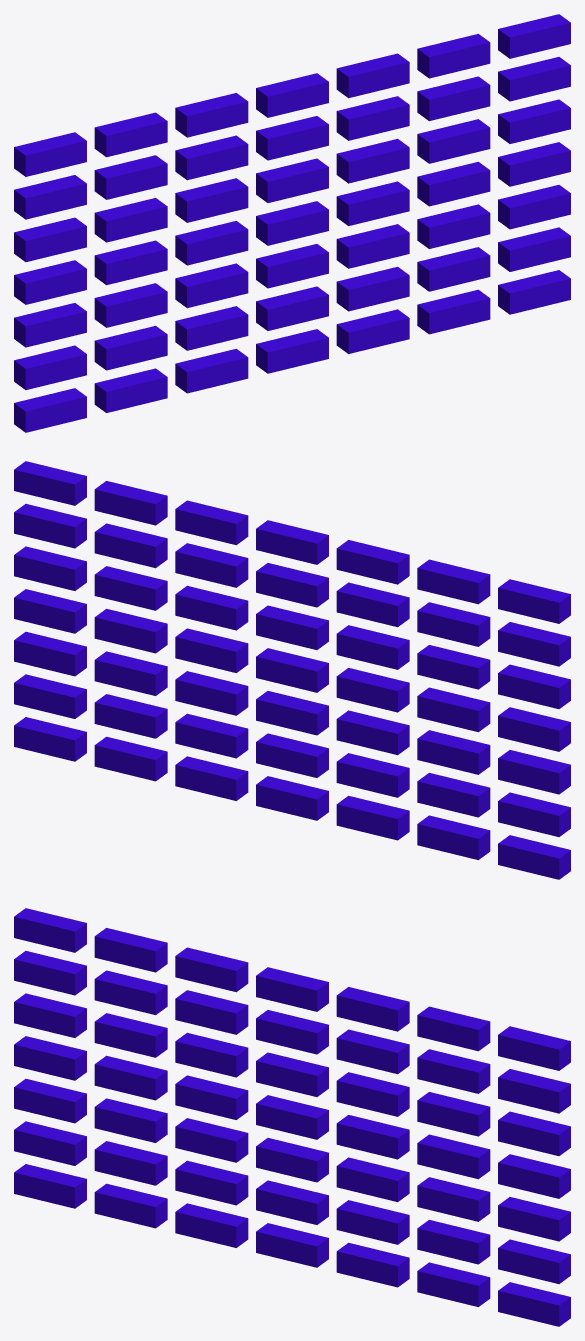
The model's file is Escenario_bloques.glb.
3 renders of one model, top to bottom at view 1: azimuth 30°, elevation 25°; view 2: azimuth 150°, elevation 25°; view 3: azimuth 330°, elevation 25°, orthographic.
Parts seen in each view (by area): view 1: -col.008, -col.017, -col.033, -col.042, -col.010, -col.012, -col.015, -col.019, -col.031, -col.035, -col.038, -col.040 (+37 smaller); view 2: -col.008, -col.017, -col.033, -col.042, -col.010, -col.012, -col.015, -col.019, -col.031, -col.035, -col.038, -col.040 (+37 smaller); view 3: -col.014, -col.019, -col.031, -col.036, -col.010, -col.012, -col.017, -col.021, -col.029, -col.033, -col.038, -col.040 (+37 smaller).
Part boxes in pixels (x1,y1,x2,y2): -col.008: (94,112,167,157); -col.017: (175,178,248,222); -col.033: (336,224,409,268); -col.042: (417,289,490,334); -col.010: (94,198,167,242); -col.012: (94,283,167,327); -col.015: (175,93,248,137); -col.019: (175,263,248,308); -col.031: (336,138,409,183); -col.035: (336,309,409,353); -col.038: (417,119,490,163); -col.040: (417,204,490,248); -col.008: (417,559,490,604); -col.017: (336,625,409,669); -col.033: (175,671,248,715); -col.042: (94,736,167,781); -col.010: (417,645,490,689); -col.012: (417,730,490,774); -col.015: (336,540,409,584); -col.019: (336,710,409,755); -col.031: (175,585,248,630); -col.035: (175,756,248,800); -col.038: (94,566,167,610); -col.040: (94,651,167,695); -col.014: (94,1183,167,1228); -col.019: (175,1118,248,1162); -col.031: (336,1072,409,1116); -col.036: (417,1006,490,1051); -col.010: (94,1013,167,1057); -col.012: (94,1098,167,1142); -col.017: (175,1032,248,1077); -col.021: (175,1203,248,1247); -col.029: (336,987,409,1031); -col.033: (336,1157,409,1202); -col.038: (417,1092,490,1136); -col.040: (417,1177,490,1221).
Bounding box in the file's own units: 26.76 × 13 × 1.
